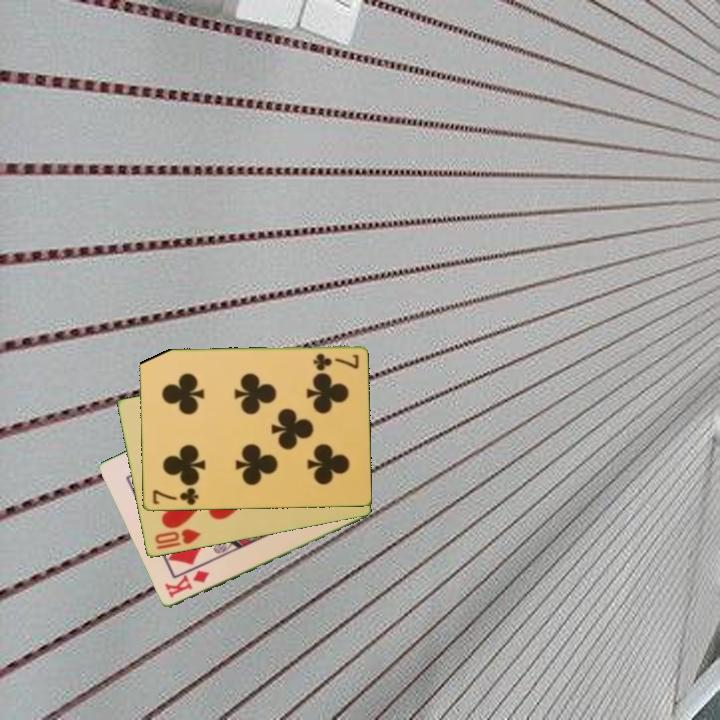10h: (151, 525, 204, 553)
7c: (149, 485, 201, 508), (310, 350, 361, 372)
Kd: (162, 567, 212, 601)
